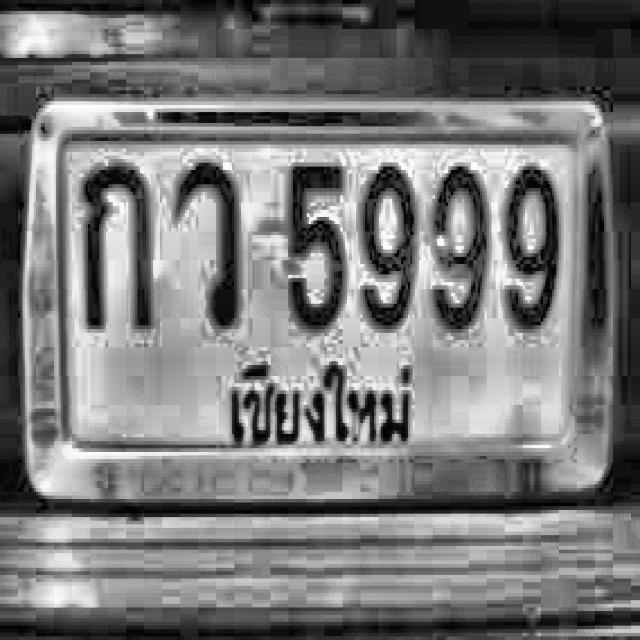license-plate: (25, 90, 619, 524)
